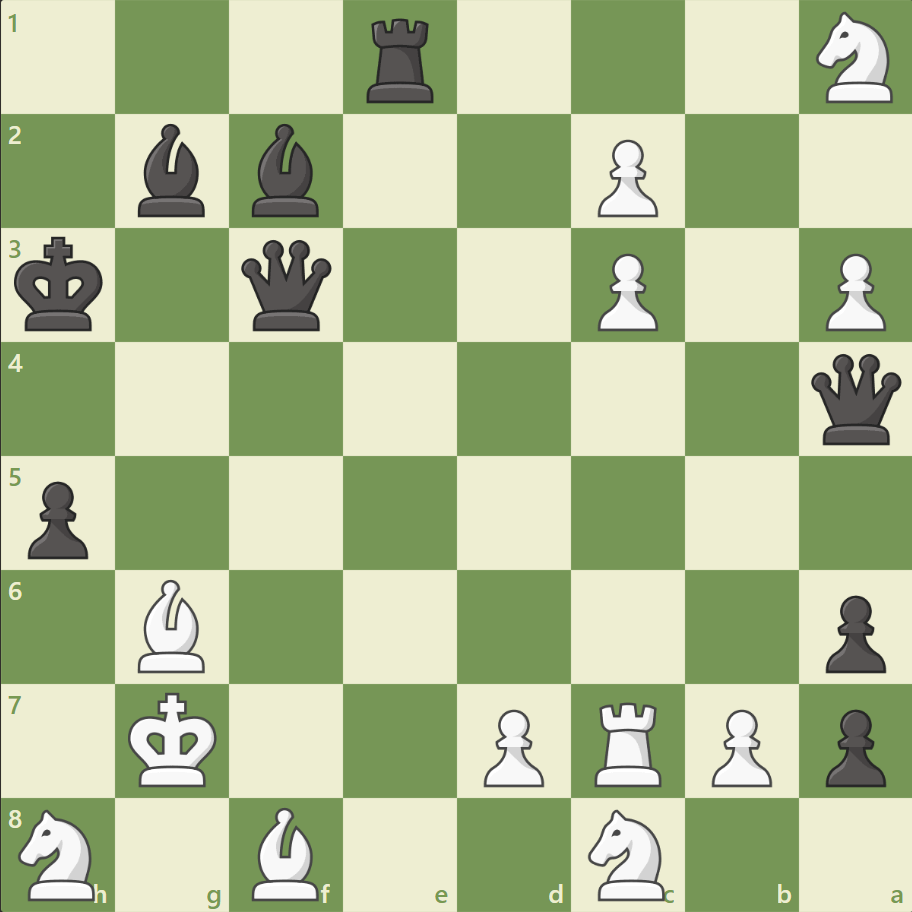B: (244, 801, 328, 904), (131, 574, 215, 676)
K: (124, 685, 224, 793)
N: (806, 7, 903, 110), (579, 802, 676, 904), (11, 802, 108, 904)
P: (701, 700, 776, 791), (474, 700, 549, 791), (815, 246, 889, 337), (588, 246, 662, 337), (588, 132, 662, 223)
R: (587, 693, 670, 790)
b: (244, 120, 328, 222), (131, 120, 215, 222)
k: (11, 231, 111, 339)
p: (20, 473, 95, 564), (815, 700, 889, 791), (815, 586, 889, 677)
q: (805, 349, 904, 449), (237, 236, 336, 335)
r: (360, 12, 442, 109)
